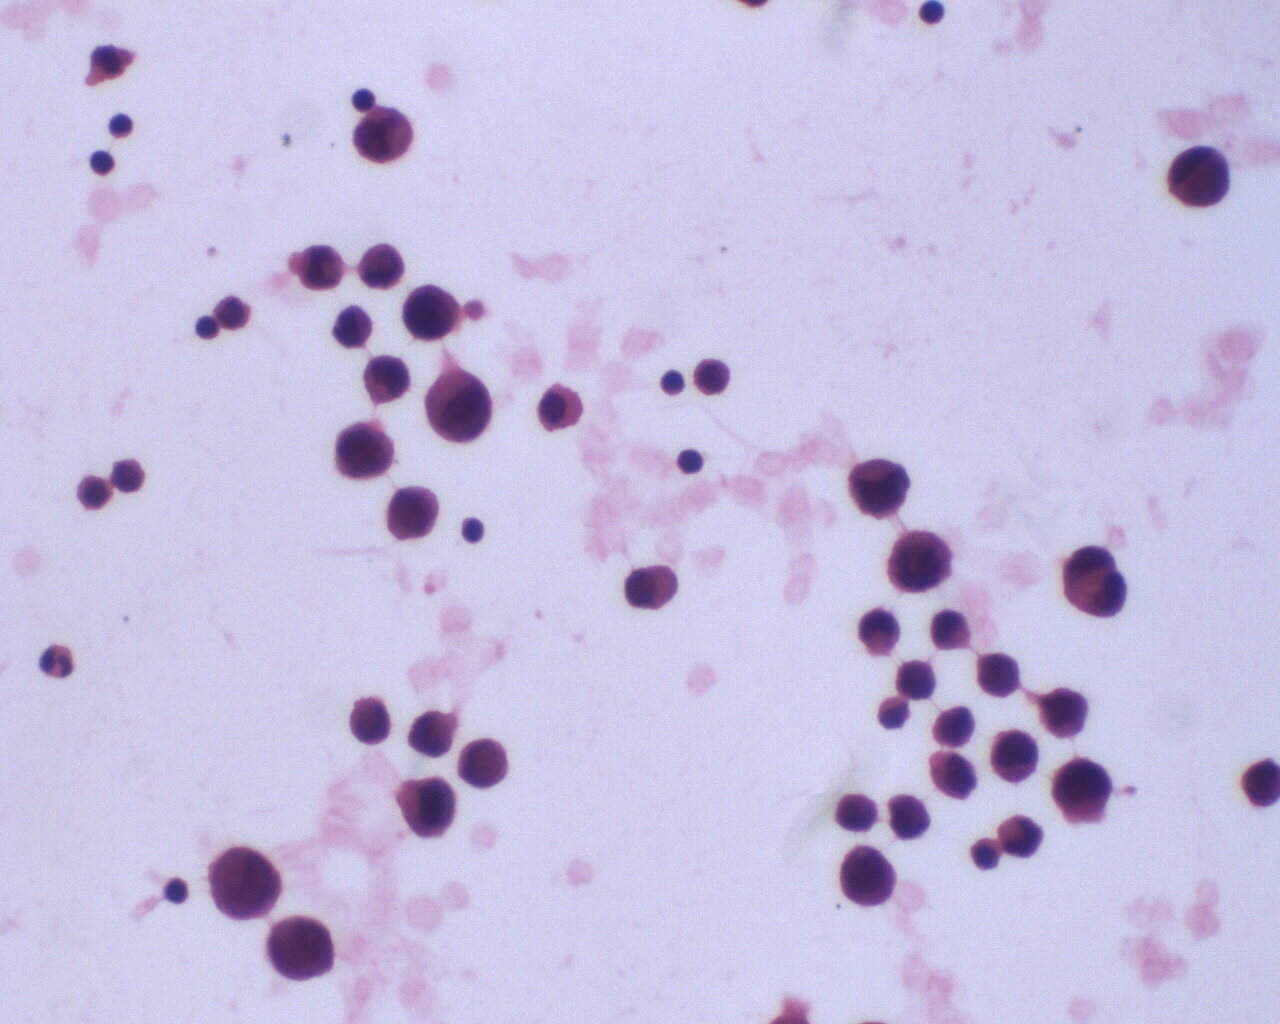ab: (209, 844, 283, 924), (425, 365, 493, 447), (267, 912, 339, 986), (846, 457, 917, 523), (886, 530, 956, 594), (393, 775, 460, 841), (1167, 143, 1231, 211), (346, 104, 410, 167), (456, 732, 517, 795), (1052, 758, 1112, 822), (402, 284, 462, 345), (840, 845, 898, 908), (335, 422, 395, 482), (382, 485, 441, 545), (990, 729, 1040, 786), (972, 649, 1025, 701), (1038, 684, 1087, 741), (363, 353, 412, 408), (929, 750, 979, 801), (357, 241, 406, 292), (931, 705, 979, 750)
lymph: (157, 872, 193, 911), (660, 366, 691, 401), (676, 446, 705, 481), (348, 85, 379, 113), (108, 111, 135, 141), (461, 514, 487, 545)
meso: (534, 379, 589, 439)
neutro: (33, 635, 76, 686)
